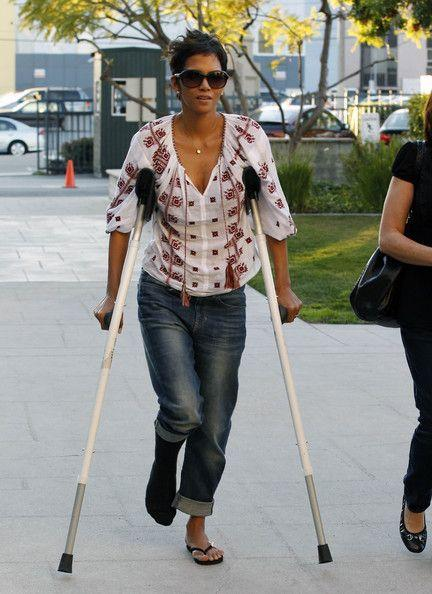crutches: (58, 30, 333, 574)
